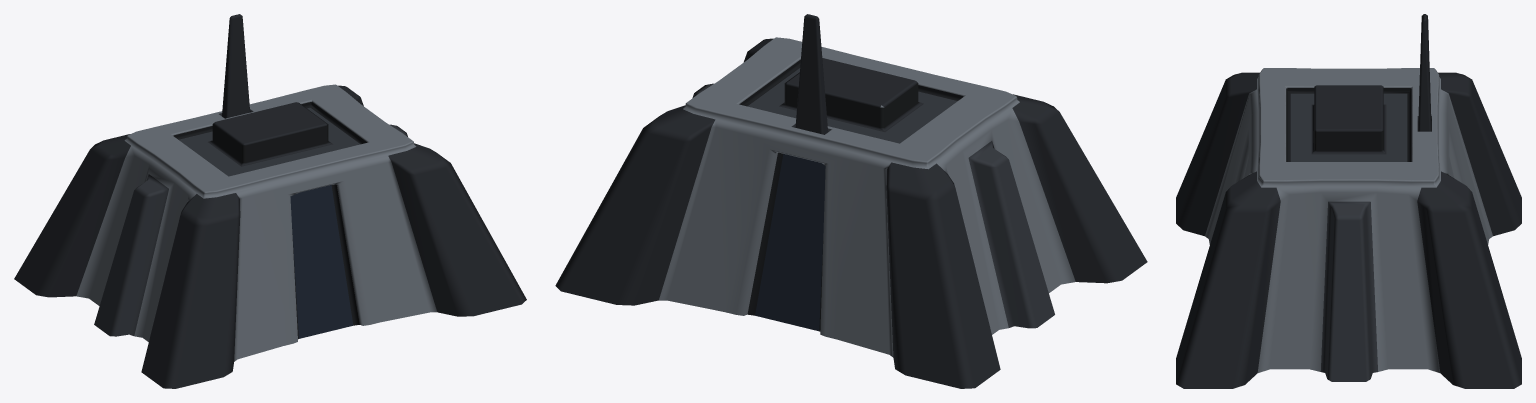
Rendered from build_1.fbx.
The picture shows the model from 3 angles, left to right: view 1: azimuth 30°, elevation 25°; view 2: azimuth 150°, elevation 25°; view 3: azimuth 270°, elevation 25°; orthographic projection. The views are drawn at different scales.
Parts seen in each view (by area): view 1: Cube.002; view 2: Cube.002; view 3: Cube.002.
Part boxes in pixels (<box>): Cube.002: <box>14,14,526,388</box>; Cube.002: <box>555,14,1147,388</box>; Cube.002: <box>1176,14,1521,388</box>.
Size of the model in its own units: 497 by 328 by 371.
